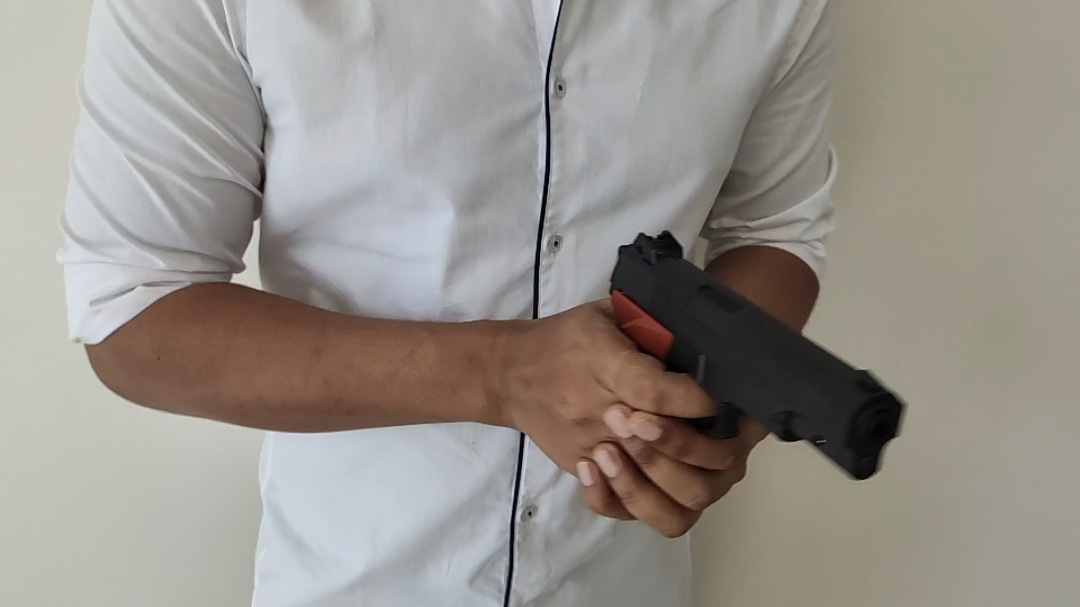gun: (609, 228, 905, 482)
